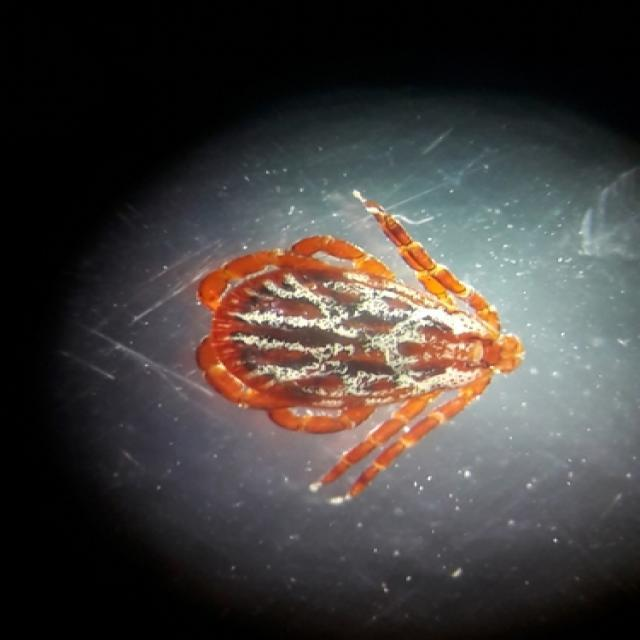Dermacentor Reticulatus-M: (191, 193, 526, 503)
